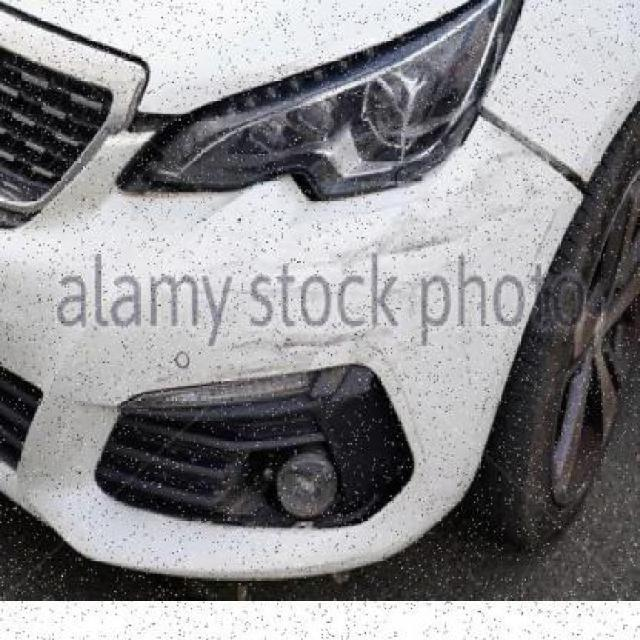front-bumper-dent: (0, 108, 577, 585), (0, 103, 363, 529)
